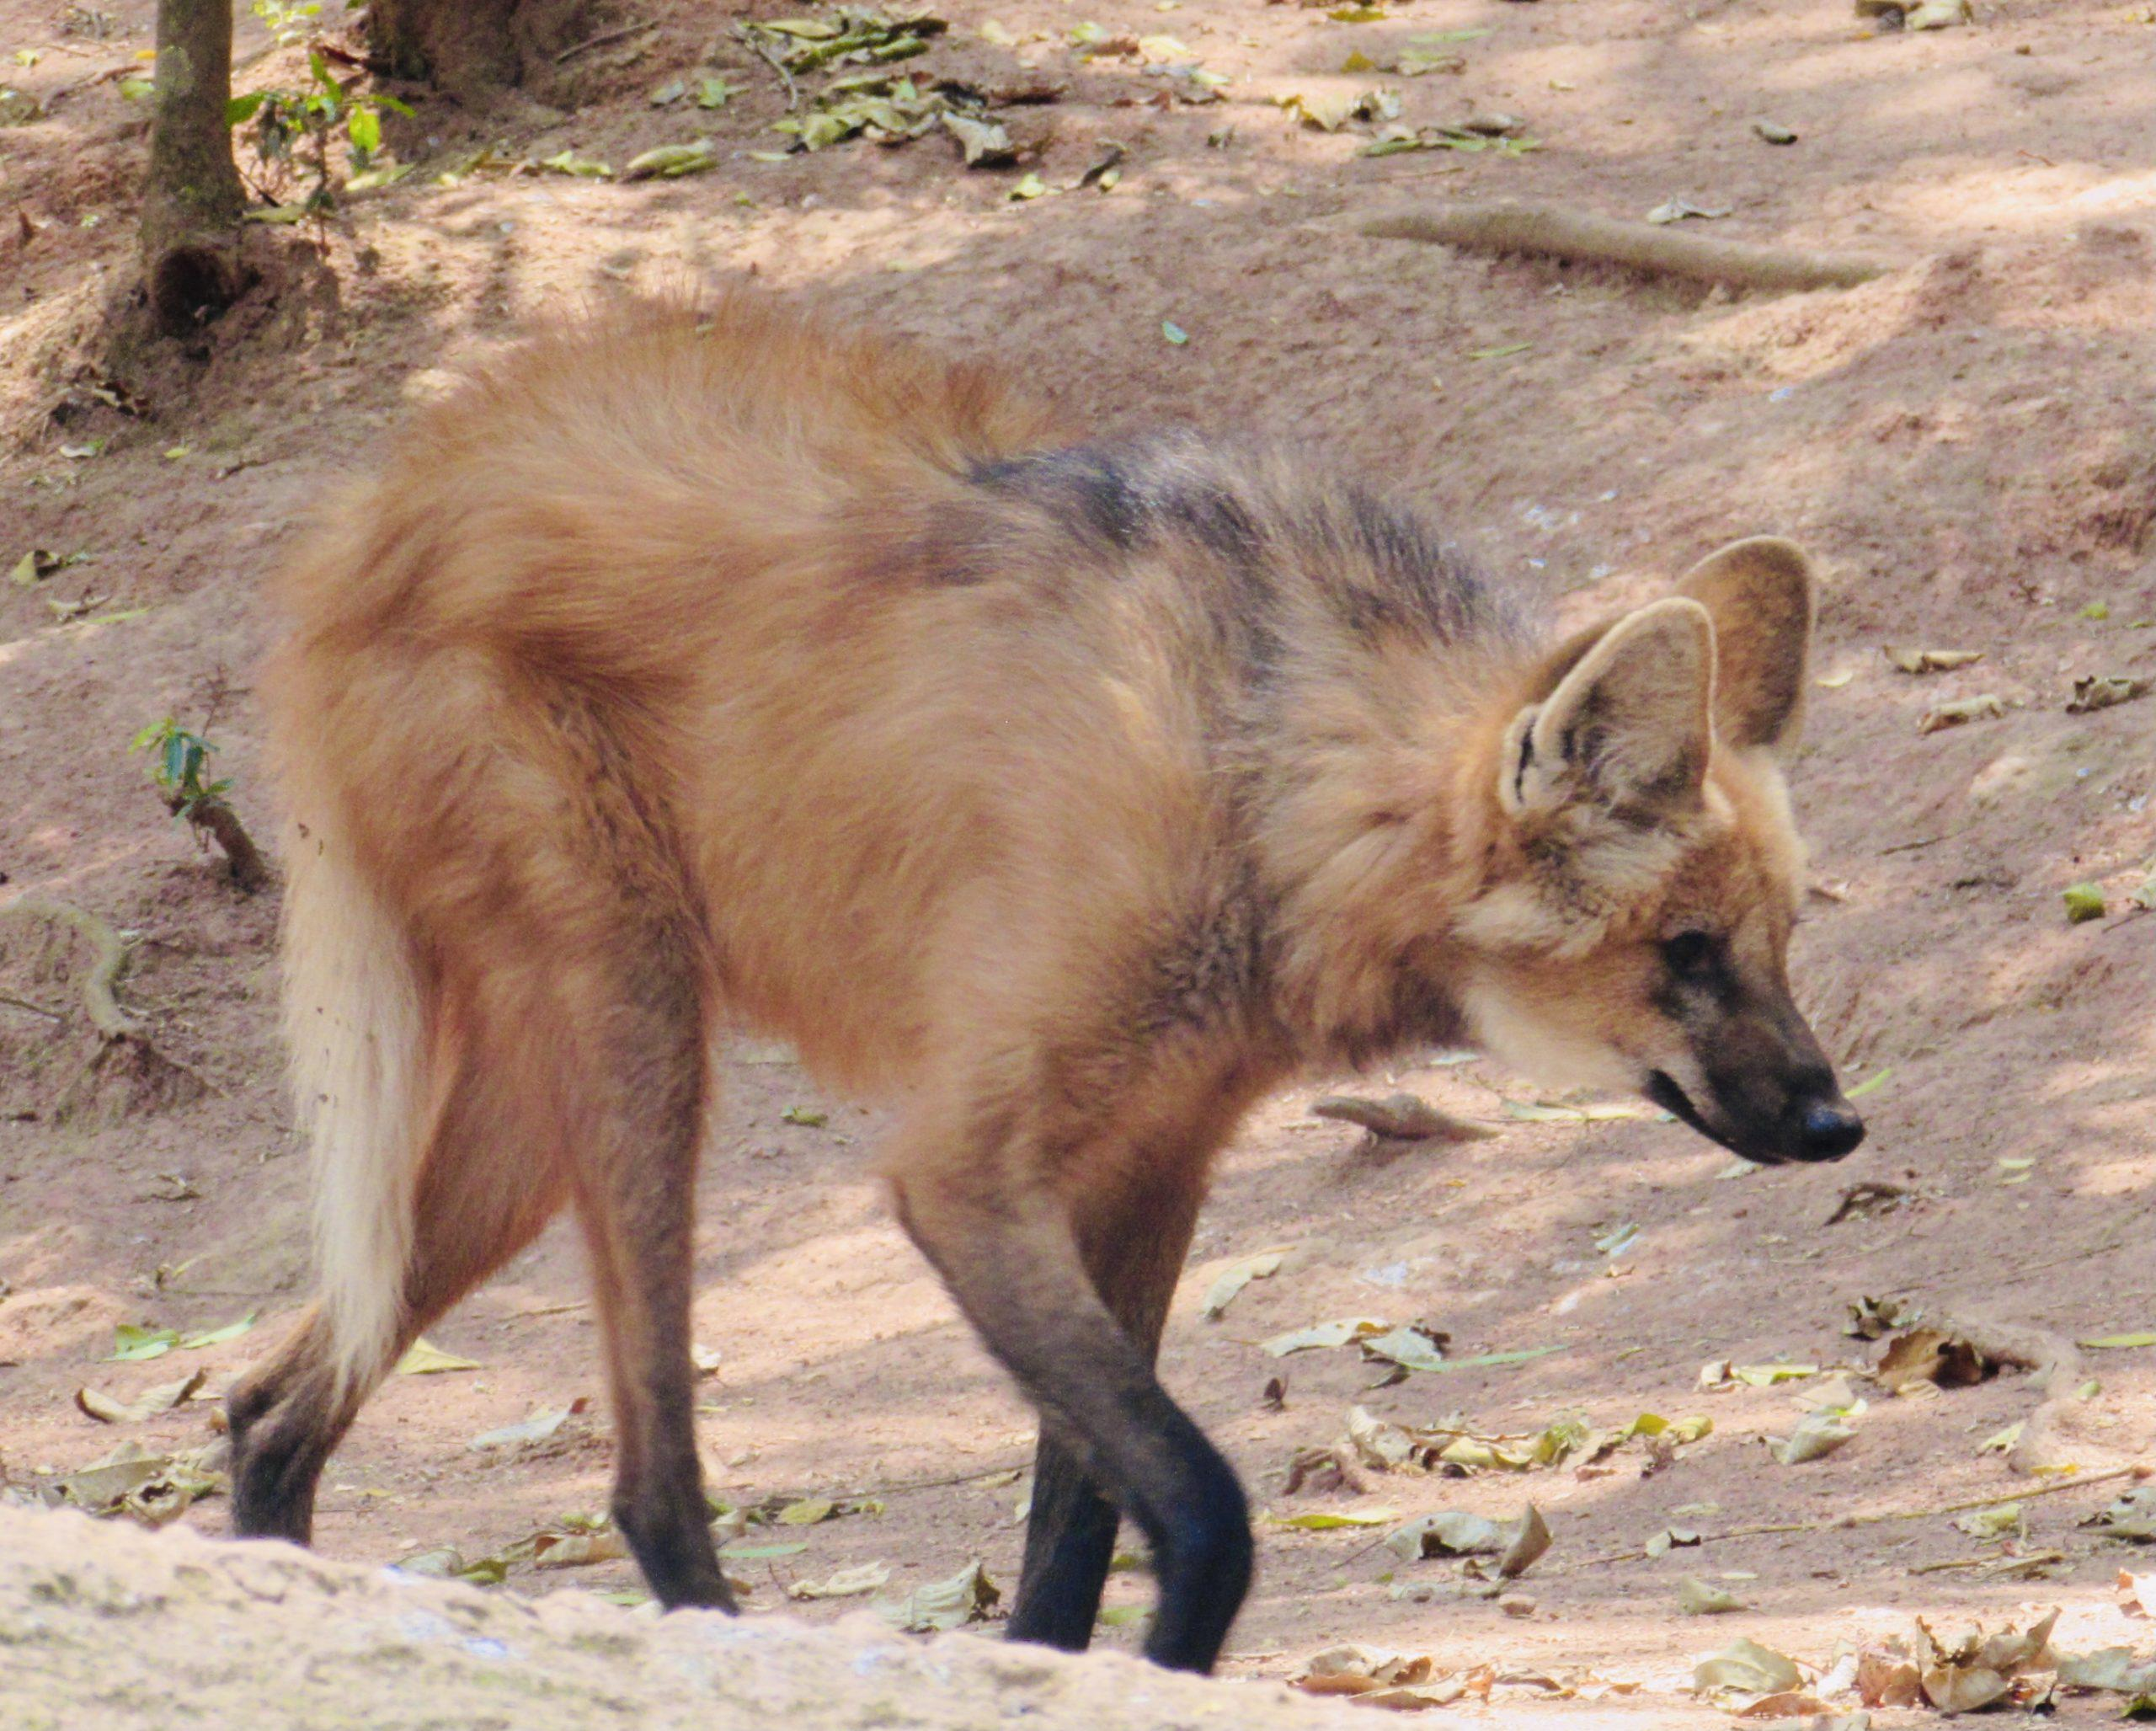LoboGuara: (147, 299, 1882, 1706)
